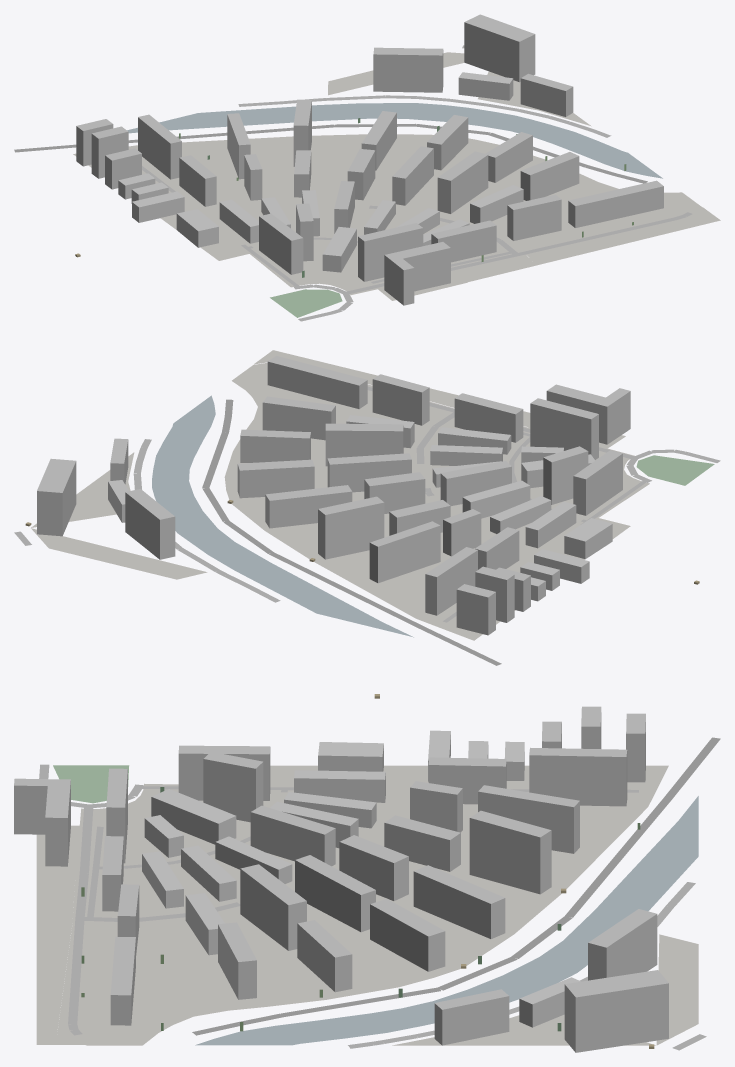
3 views of the same model, one above another, from view 1: azimuth 30°, elevation 25°; view 2: azimuth 150°, elevation 25°; view 3: azimuth 270°, elevation 25° (orthographic). The views are drawn at different scales.
Size of the model in its own units: 636 by 47.81 by 534.
